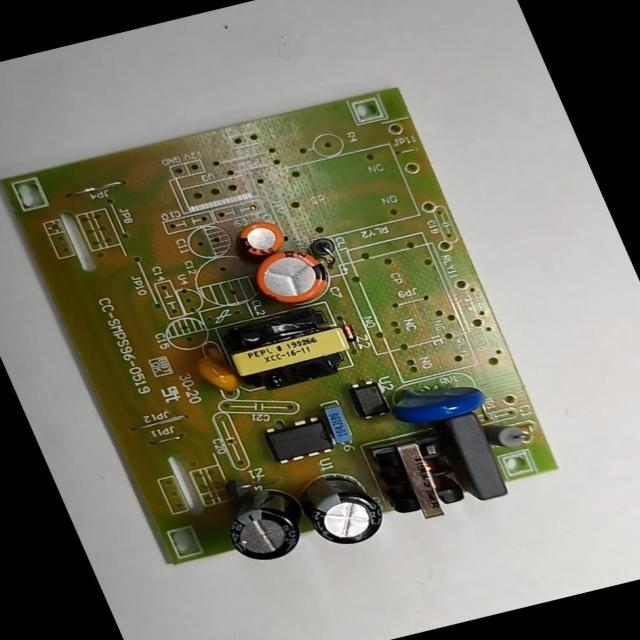Cap1: (241, 240, 340, 314)
Cap2: (228, 214, 294, 262)
Cap3: (288, 463, 396, 556)
Cap4: (208, 479, 313, 570)
MOSFET: (251, 408, 346, 472)
Mov: (380, 370, 497, 434)
Resistor: (476, 414, 533, 456)
Transformer: (207, 295, 367, 404), (355, 424, 478, 533)
